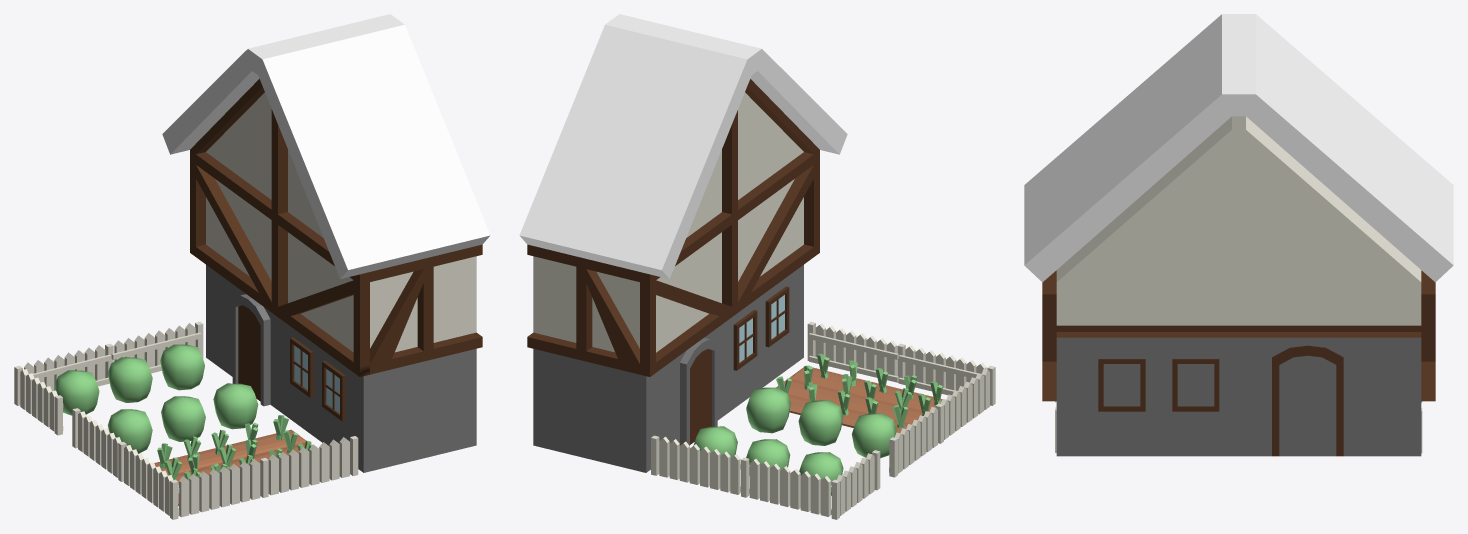
The model's file is Apothecary Cap.fbx.
3 views of the same model, side by side, from view 1: azimuth 30°, elevation 25°; view 2: azimuth 150°, elevation 25°; view 3: azimuth 270°, elevation 25° (orthographic). The views are drawn at different scales.
Visible parts, largest first — view 1: Apothecary Cap; view 2: Apothecary Cap; view 3: Apothecary Cap.
Part boxes in pixels (x1,y1,x2,y2): Apothecary Cap: (14, 14, 490, 519); Apothecary Cap: (519, 14, 995, 519); Apothecary Cap: (1024, 14, 1453, 456).
Size of the model in its own units: 77.38 by 89.74 by 81.96.
